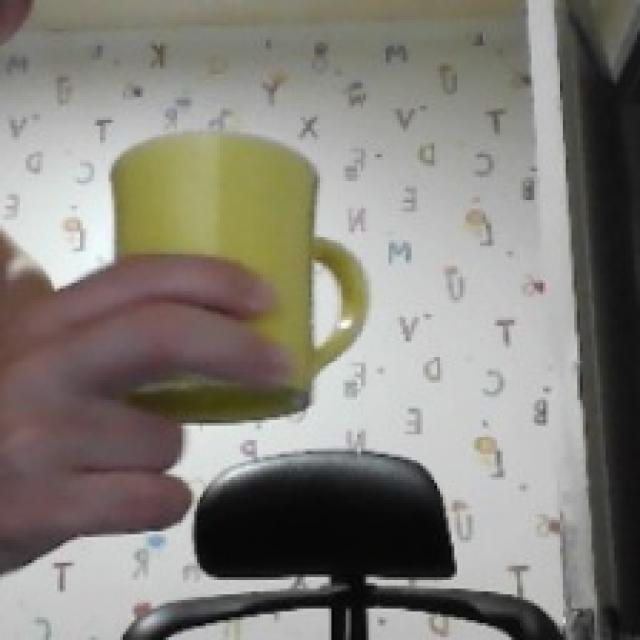cup: (111, 131, 366, 420)
